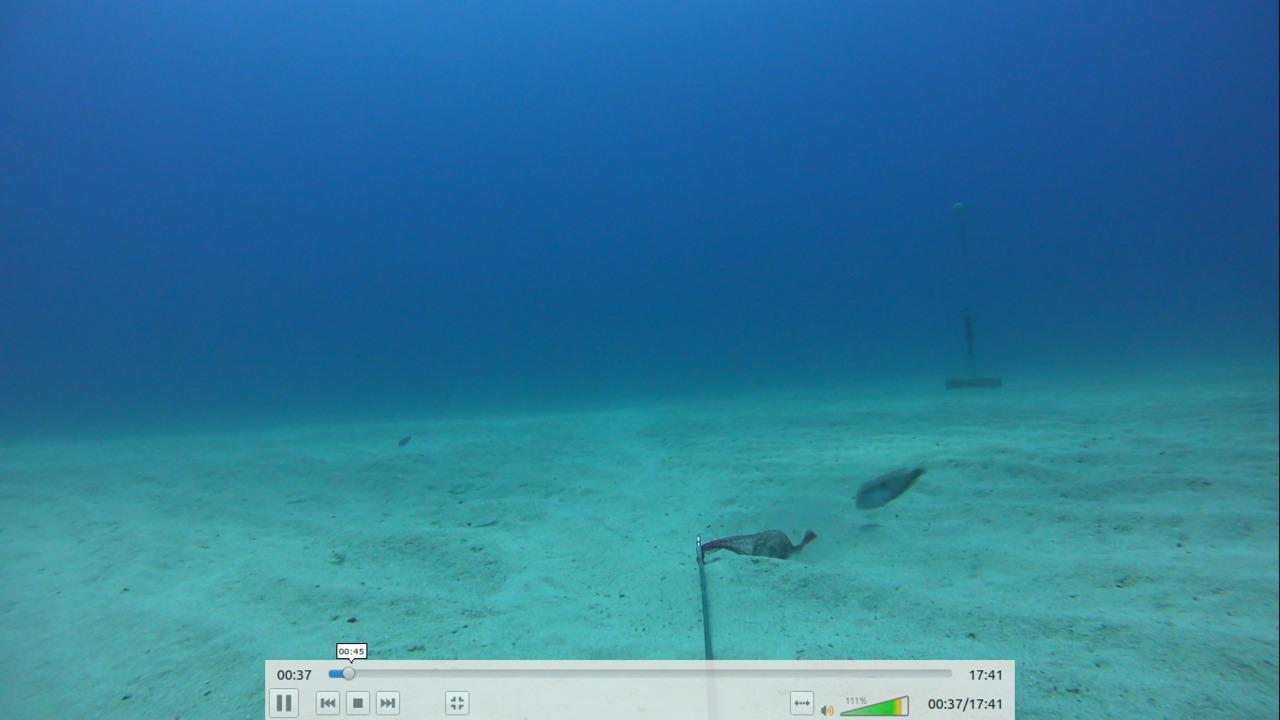raor: (849, 455, 932, 514)
